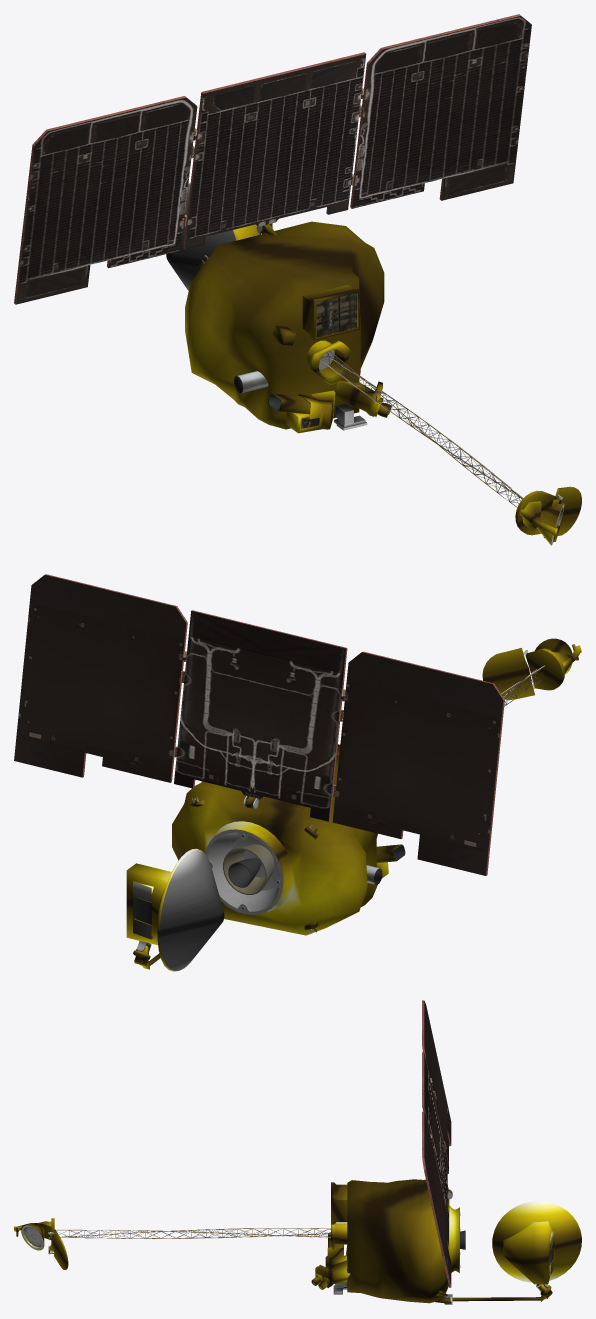
File: mars_odyssey.glb
3 renders of one model, top to bottom at view 1: azimuth 30°, elevation 25°; view 2: azimuth 150°, elevation 25°; view 3: azimuth 270°, elevation 25°, orthographic. The views are drawn at different scales.
Parts seen in each view (by area): view 1: shiny_panel, foil_gold, tex_boom, tex_01, foil_silver; view 2: tex_01, shiny_panel, foil_gold, foil_silver, tex_04; view 3: foil_gold, tex_01, shiny_panel, tex_boom.
Part boxes in pixels (x1,y1,x2,y2): shiny_panel: (14, 14, 531, 369); foil_gold: (185, 183, 581, 545); tex_boom: (321, 351, 523, 507); tex_01: (183, 50, 562, 504); foil_silver: (166, 184, 242, 393); tex_01: (14, 575, 534, 887); shiny_panel: (45, 574, 504, 914); foil_gold: (126, 638, 581, 971); foil_silver: (133, 850, 382, 970); tex_04: (191, 798, 378, 932); foil_gold: (14, 1179, 581, 1303); tex_01: (48, 1001, 546, 1303); shiny_panel: (422, 1000, 460, 1287); tex_boom: (56, 1228, 330, 1238).
Bounding box in the file's own units: 5.67 × 3.36 × 8.22.
Materials: 9 (9 with a texture image).
